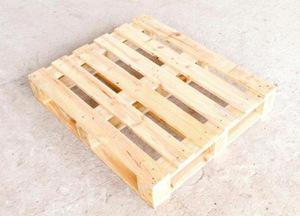wood: (26, 10, 272, 209)
